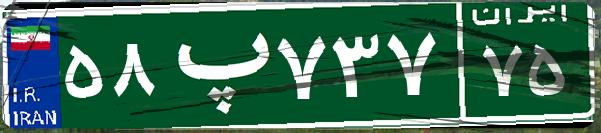3: (330, 28, 385, 110)
5: (57, 26, 110, 107), (525, 38, 570, 115)
7: (385, 28, 445, 110), (273, 28, 330, 110), (475, 38, 525, 113)
8: (110, 28, 158, 105)
پ: (158, 15, 273, 115)
